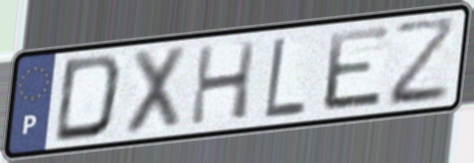D: (50, 51, 126, 145)
E: (321, 22, 392, 114)
H: (187, 38, 260, 129)
L: (261, 34, 308, 120)
X: (121, 42, 191, 139)
Z: (388, 13, 459, 111)
